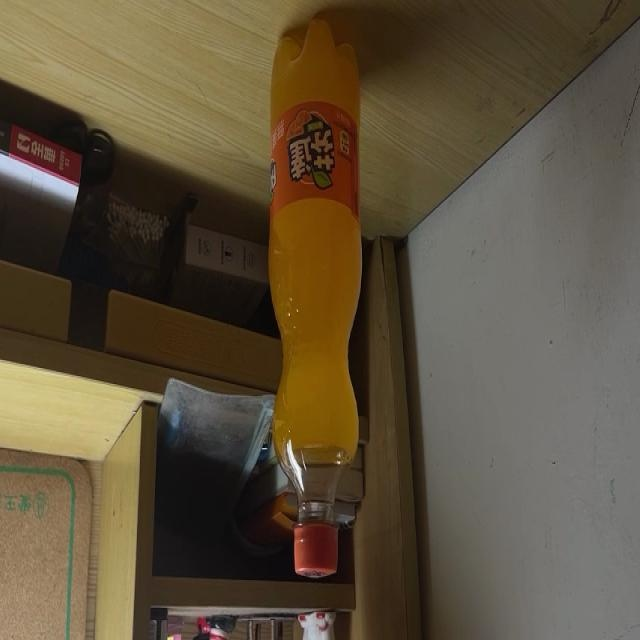Fanta: (268, 19, 361, 576)
